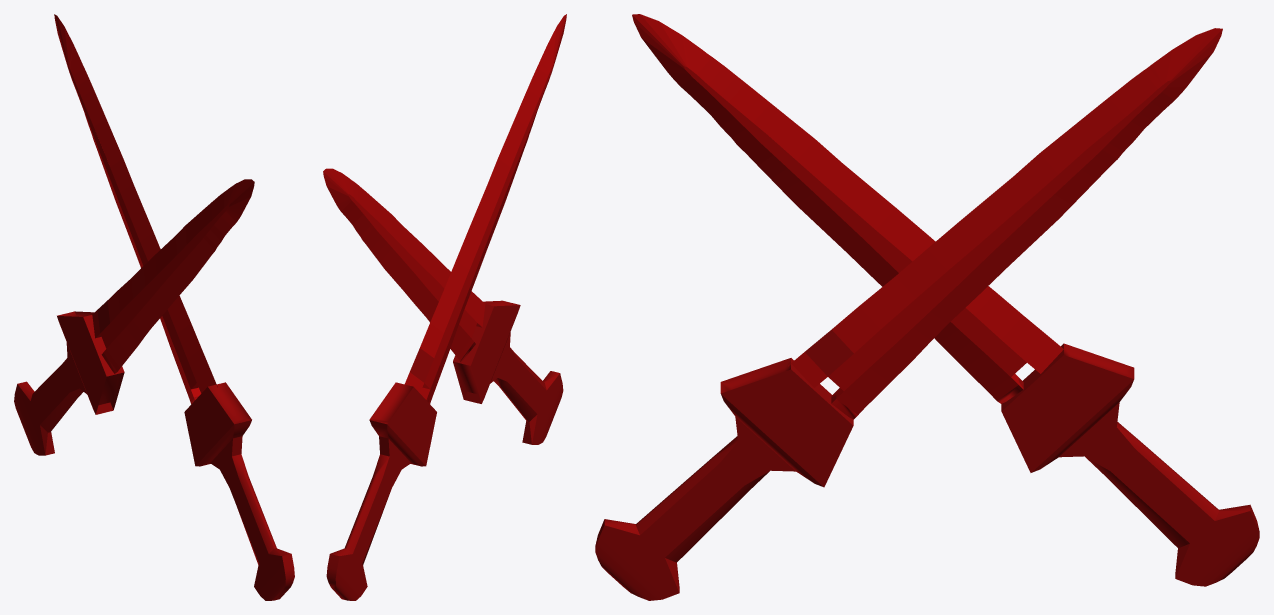
Rendered from ares.fbx.
The picture shows the model from 3 angles, left to right: view 1: azimuth 30°, elevation 25°; view 2: azimuth 150°, elevation 25°; view 3: azimuth 270°, elevation 25°; orthographic projection. The views are drawn at different scales.
Visible parts, largest first — view 1: Sword.001, Sword; view 2: Sword.001, Sword; view 3: Sword, Sword.001.
Part boxes in pixels (bbox=[...]): Sword.001: bbox=[14, 179, 254, 455]; Sword: bbox=[54, 14, 294, 600]; Sword.001: bbox=[326, 14, 566, 600]; Sword: bbox=[323, 168, 563, 444]; Sword: bbox=[595, 28, 1222, 600]; Sword.001: bbox=[632, 14, 1259, 586].
Bounding box in the file's own units: 33.12 × 339 × 358.
